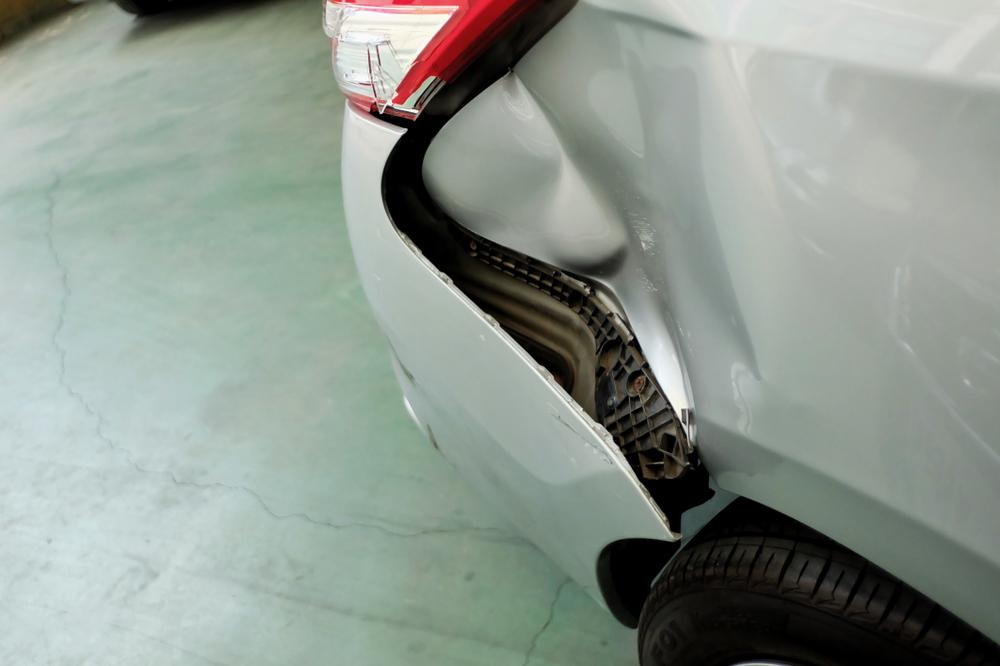dent: (436, 7, 829, 470)
lamp broken: (325, 0, 528, 122)
